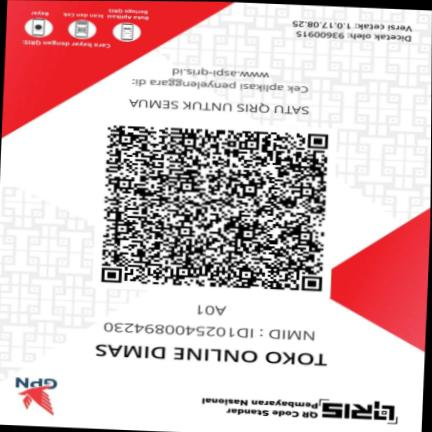Cara Pakai QRIS: (9, 0, 159, 52)
Cek Aplikasi Penyelenggara: (123, 60, 316, 97)
Dicetak Oleh: (294, 30, 421, 44)
Logo GPN: (6, 371, 66, 419)
Logo dan deskripsi QRIS: (197, 392, 406, 429)
Nama Merchant: (92, 340, 330, 370)
National Merchant ID: (95, 320, 327, 344)
QR Code: (93, 119, 336, 297)
Slogan: (122, 94, 315, 119)
Terminal ID: (191, 302, 231, 318)
Versi Cetak: (289, 19, 422, 34)
